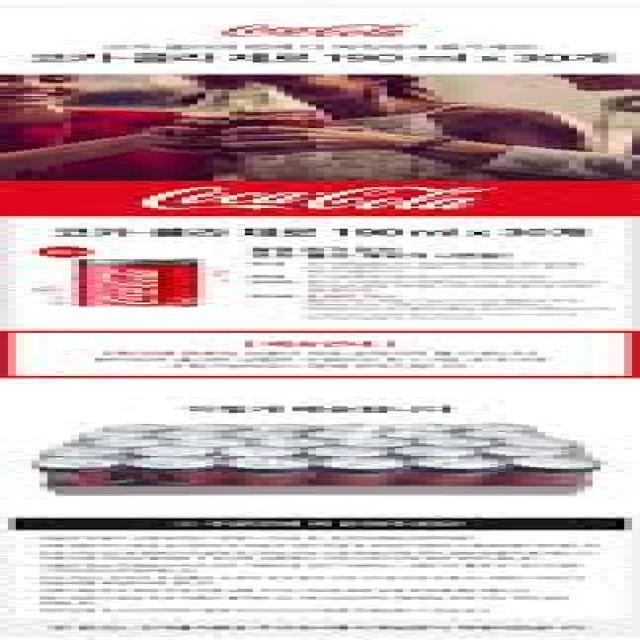coca-cola: (59, 253, 225, 310)
